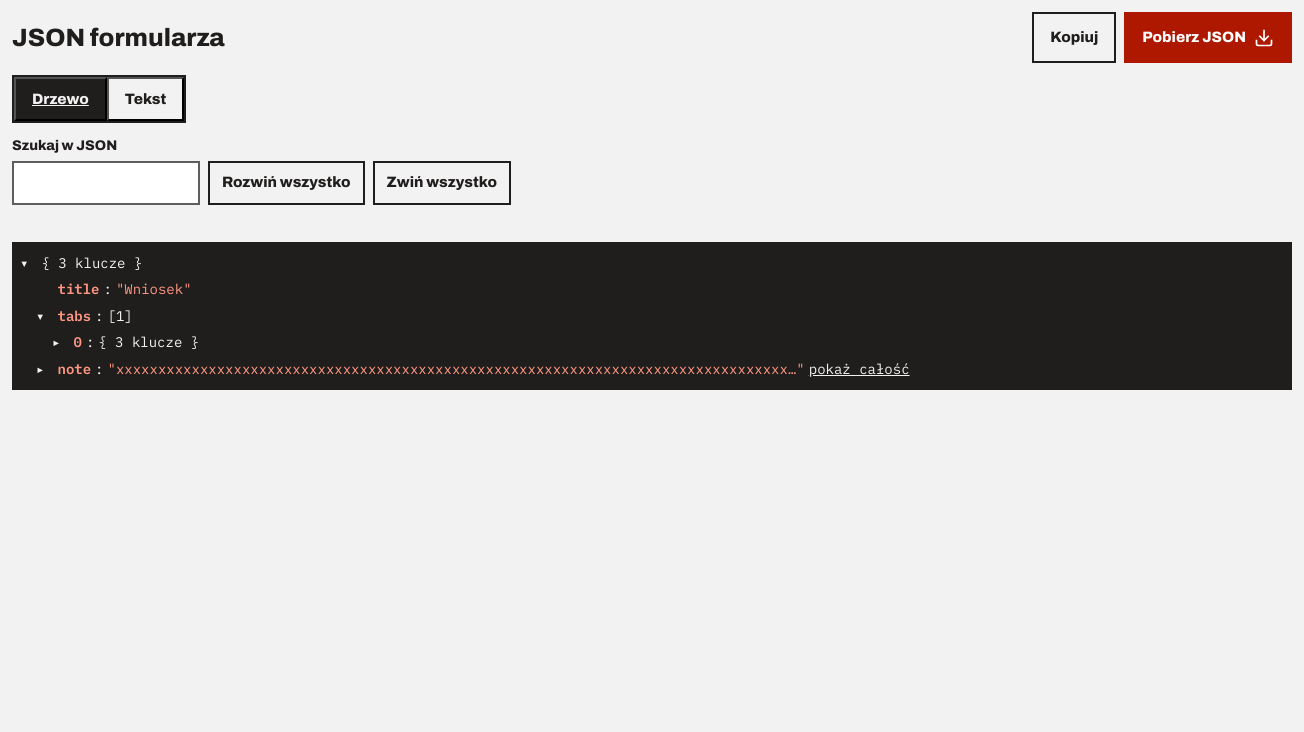
Test case: JsonPanel tree › marks important keys with a text tag
The image size is (1304, 732).
Click the button "Rozwiń wszystko" at x=286, y=183, box top-left (208, 161), bottom-right (364, 205)
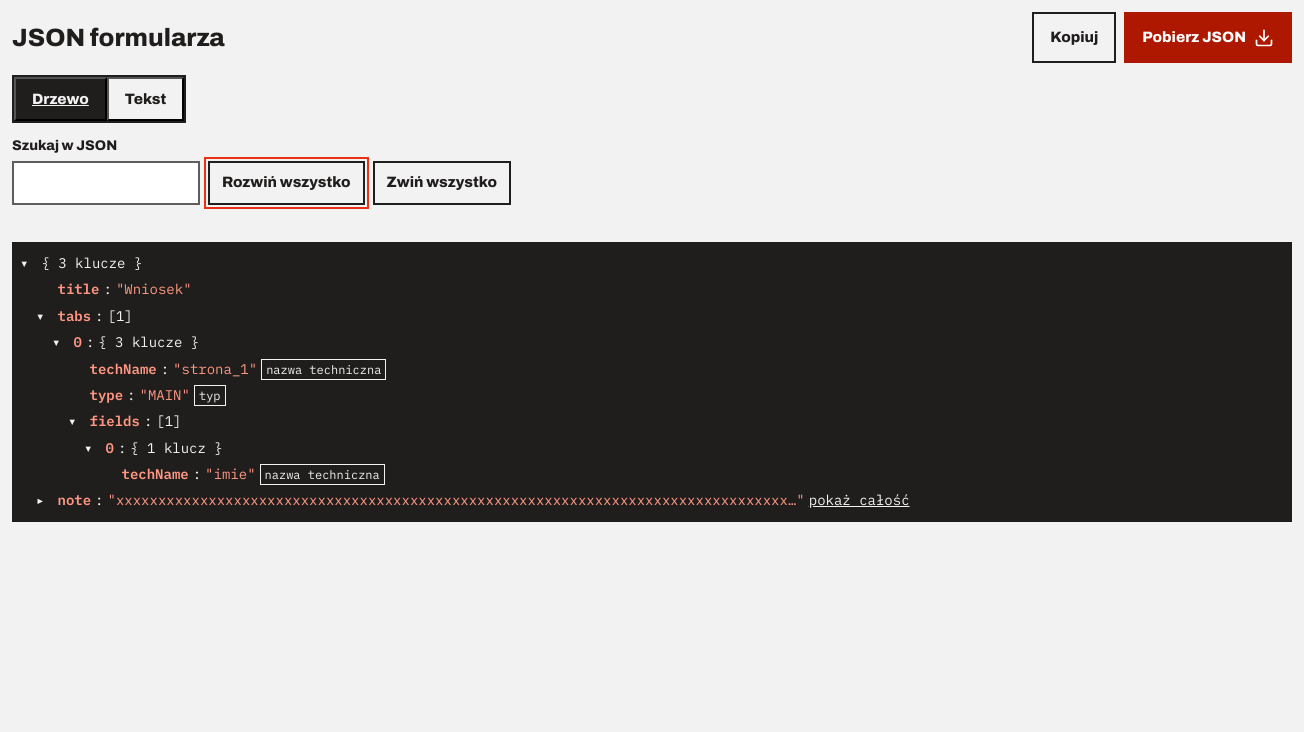
Result: the text "nazwa techniczna" is shown 2 times at top-left (261, 358), bottom-right (386, 380); top-left (260, 464), bottom-right (385, 485)
Result: the text "typ" is shown once at top-left (194, 385), bottom-right (226, 406)
